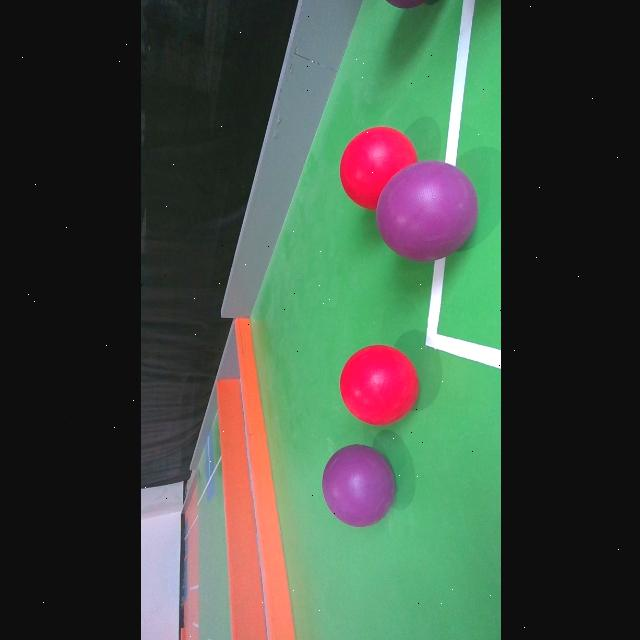P: (375, 161, 477, 261), (322, 445, 394, 527)
R: (339, 126, 417, 210), (339, 344, 418, 426)
